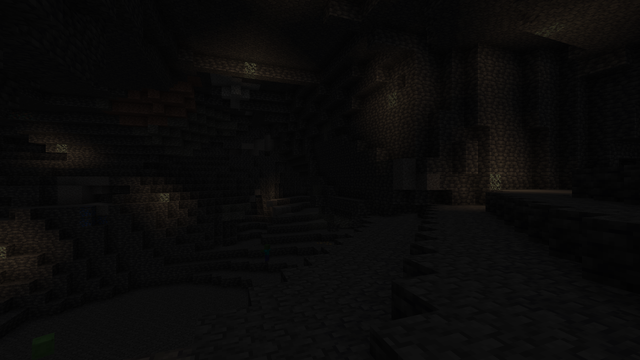slimes: (27, 332, 57, 359)
zombies: (264, 244, 269, 262)
